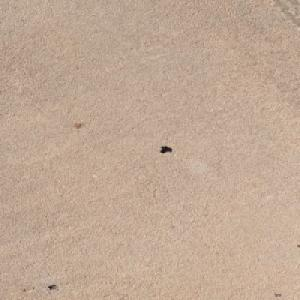BoltWasher: (159, 145, 169, 152)
